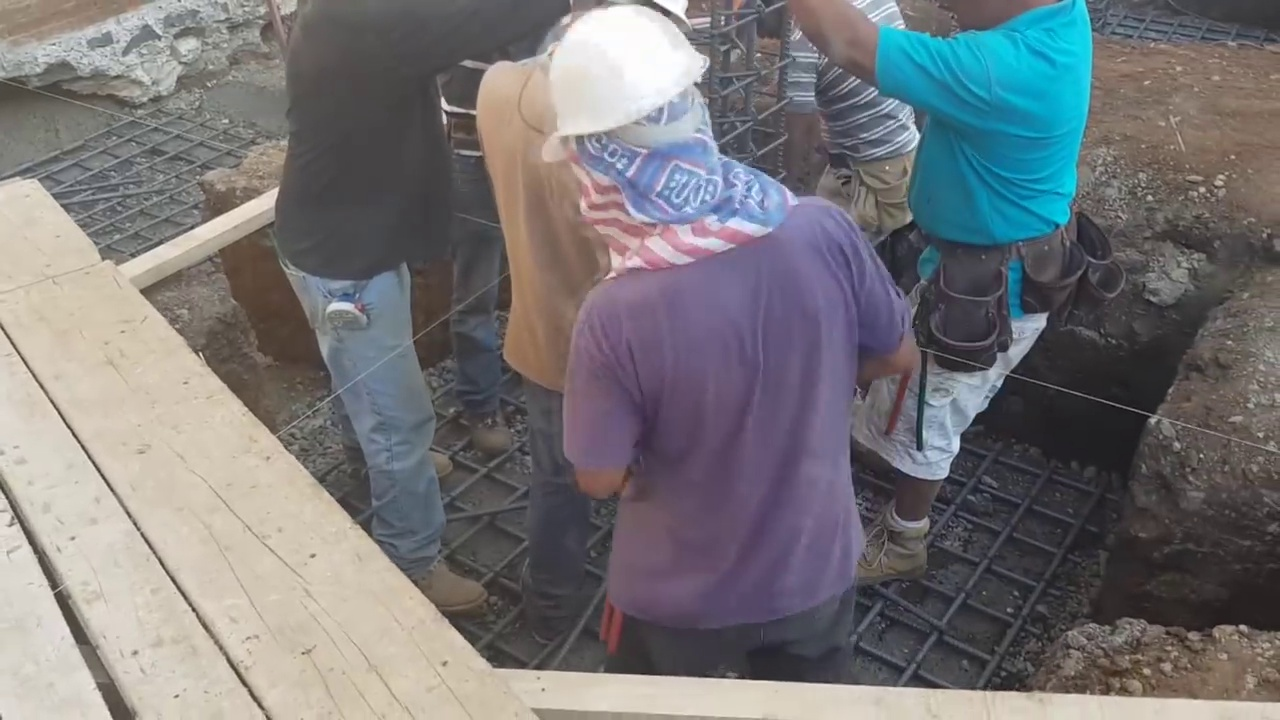helmet: (548, 5, 702, 151)
helmet-on: (546, 5, 778, 273)
person: (564, 0, 927, 703), (807, 0, 1090, 586), (267, 9, 492, 620), (475, 3, 612, 646), (773, 0, 920, 269)
